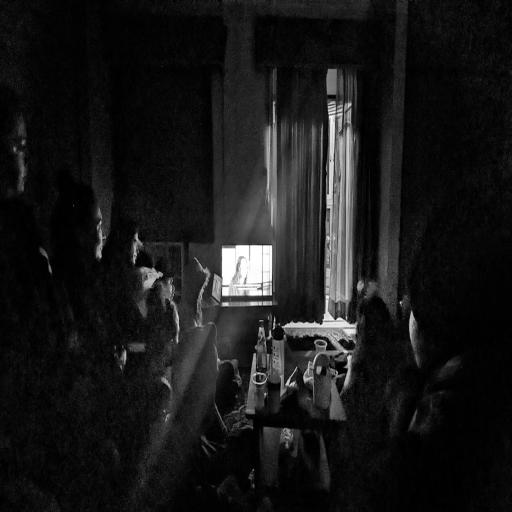face: (8, 116, 27, 195), (94, 207, 103, 260), (129, 233, 141, 265)
